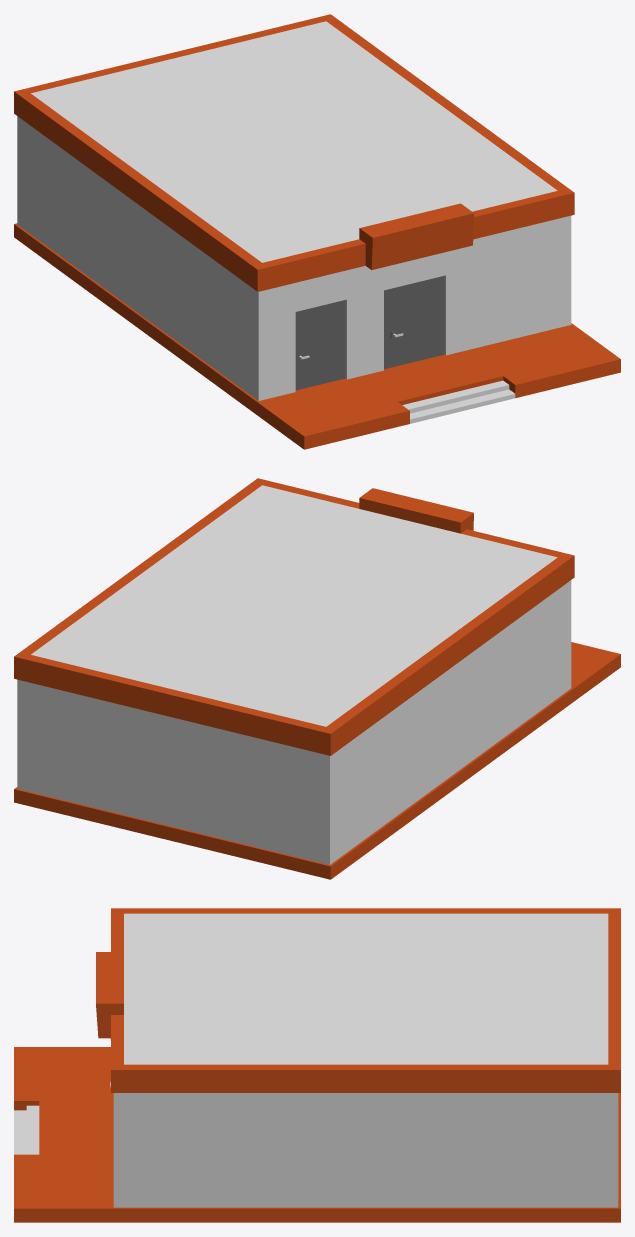
The model's file is Minimarket.FBX.
3 views of the same model, one above another, from view 1: azimuth 30°, elevation 25°; view 2: azimuth 150°, elevation 25°; view 3: azimuth 270°, elevation 25° (orthographic). The views are drawn at different scales.
Parts seen in each view (by area): view 1: Box001, Box004; view 2: Box001; view 3: Box001.
Part boxes in pixels (left/top/right/bottom): Box001: left=14, top=14, right=620, bottom=449; Box004: left=295, top=300, right=345, bottom=390; Box001: left=14, top=478, right=620, bottom=879; Box001: left=14, top=908, right=620, bottom=1222.
Size of the model in its own units: 150 by 71 by 238.
